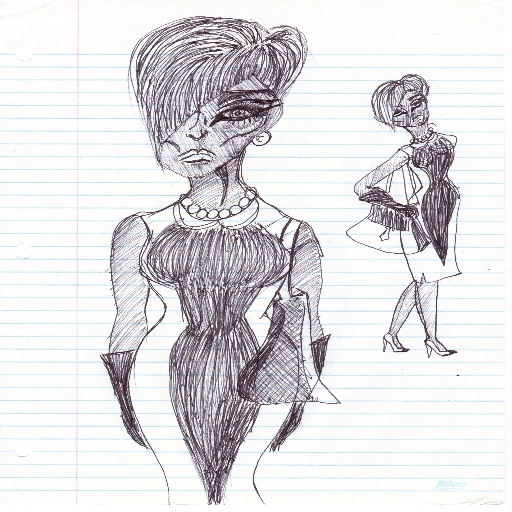hand: (267, 401, 309, 451), (121, 396, 152, 447), (401, 200, 419, 220)
